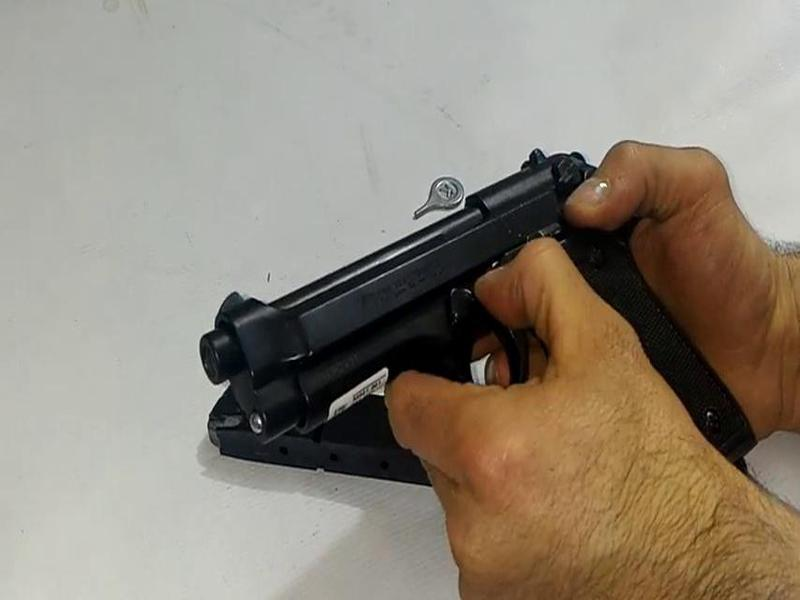Pistola: (190, 155, 766, 495)
